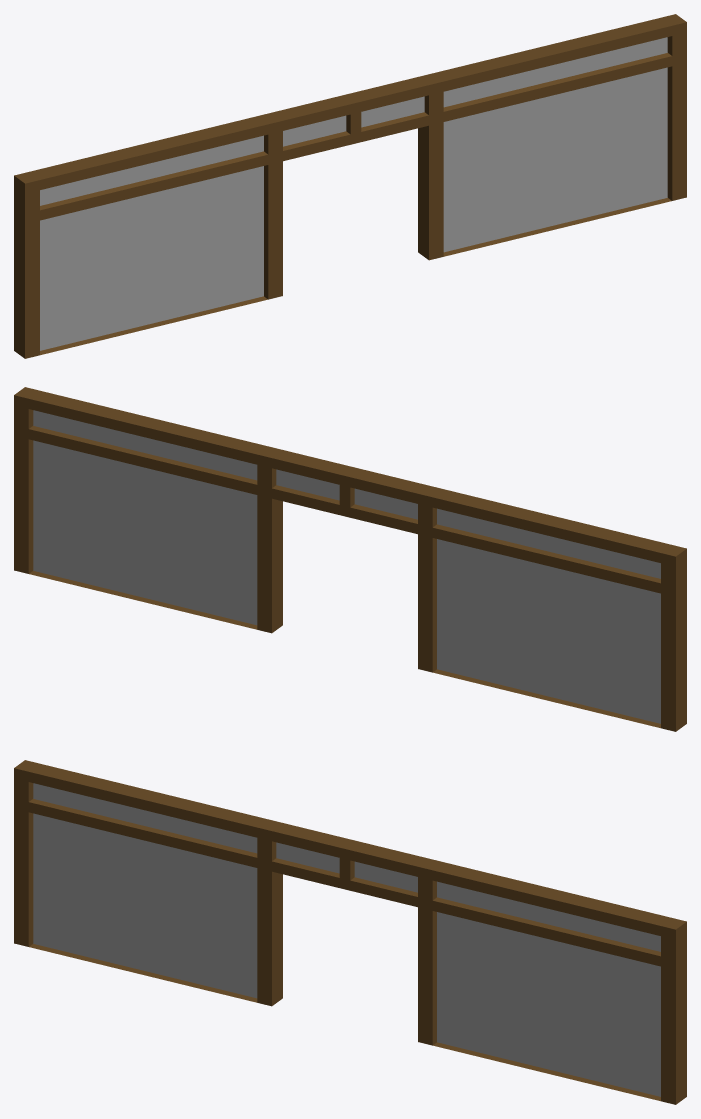
File: wall_1.fbx
3 views of the same model, one above another, from view 1: azimuth 30°, elevation 25°; view 2: azimuth 150°, elevation 25°; view 3: azimuth 330°, elevation 25° (orthographic).
Visible parts, largest first — view 1: polySurface21; view 2: polySurface21; view 3: polySurface21.
Boxes of the visible parts, x1,y1,x2,y2 form: polySurface21: (14, 14, 686, 358); polySurface21: (14, 387, 686, 731); polySurface21: (14, 760, 686, 1104).
Size of the model in its own units: 138 by 34.86 by 4.01.
